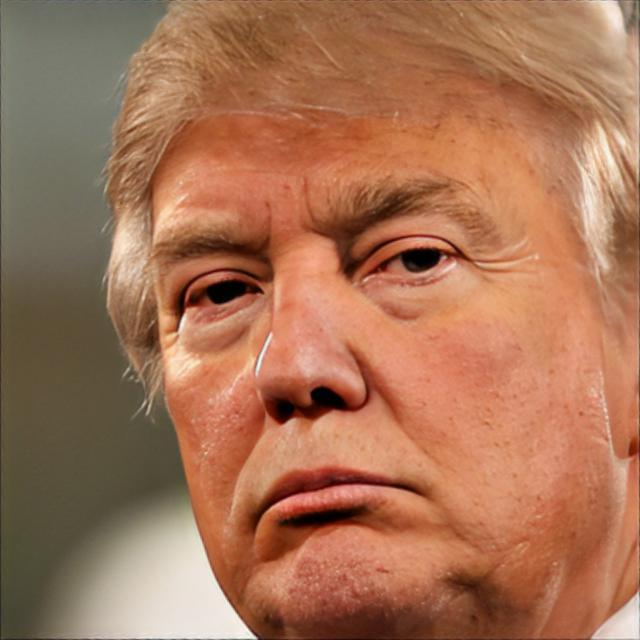anger: (154, 40, 574, 635)
